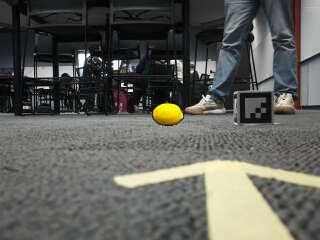lemon: (152, 103, 182, 125)
